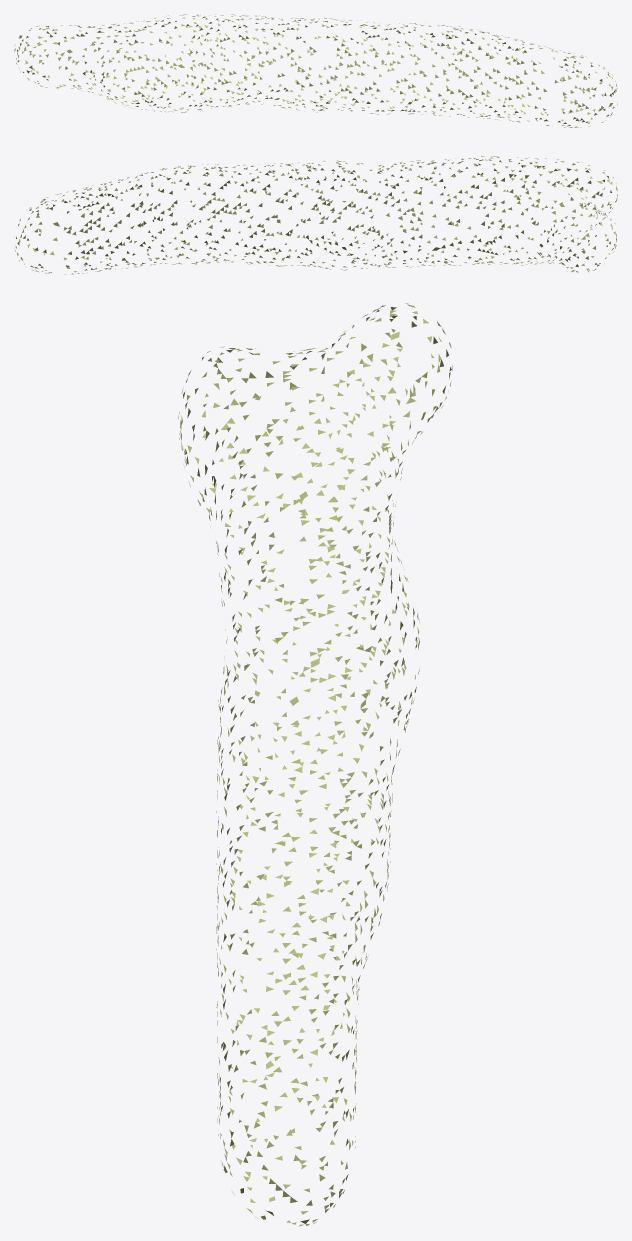
Rendered from morph_010.glb.
3 views of the same model, one above another, from view 1: azimuth 30°, elevation 25°; view 2: azimuth 150°, elevation 25°; view 3: azimuth 270°, elevation 25° (orthographic). The views are drawn at different scales.
Bounding box in the file's own units: 110 × 37.62 × 23.
